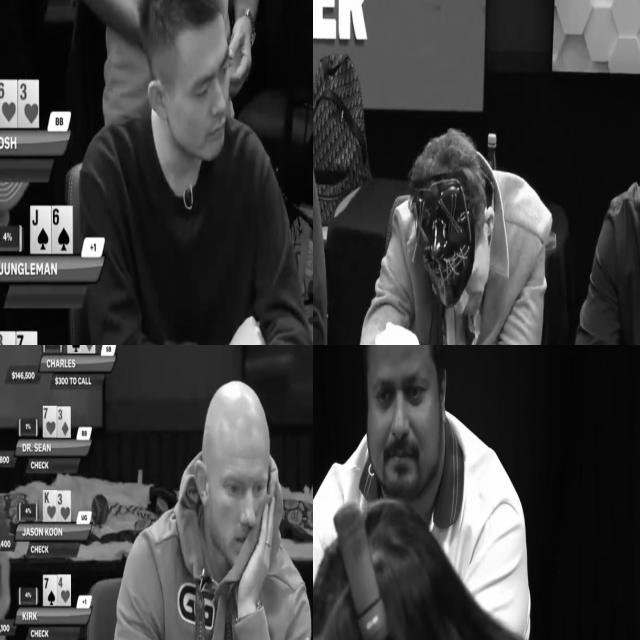3D: (57, 406, 71, 438)
3H: (19, 82, 38, 126), (56, 491, 71, 521)
4H: (57, 575, 71, 606)
6D: (81, 345, 95, 353)
6H: (0, 82, 16, 125)
6S: (53, 208, 72, 252)
7C: (17, 334, 36, 345)
7H: (43, 406, 57, 437)
7S: (42, 575, 58, 605)
AS: (67, 345, 81, 352)
JS: (31, 209, 50, 253)
KH: (42, 490, 57, 522)
